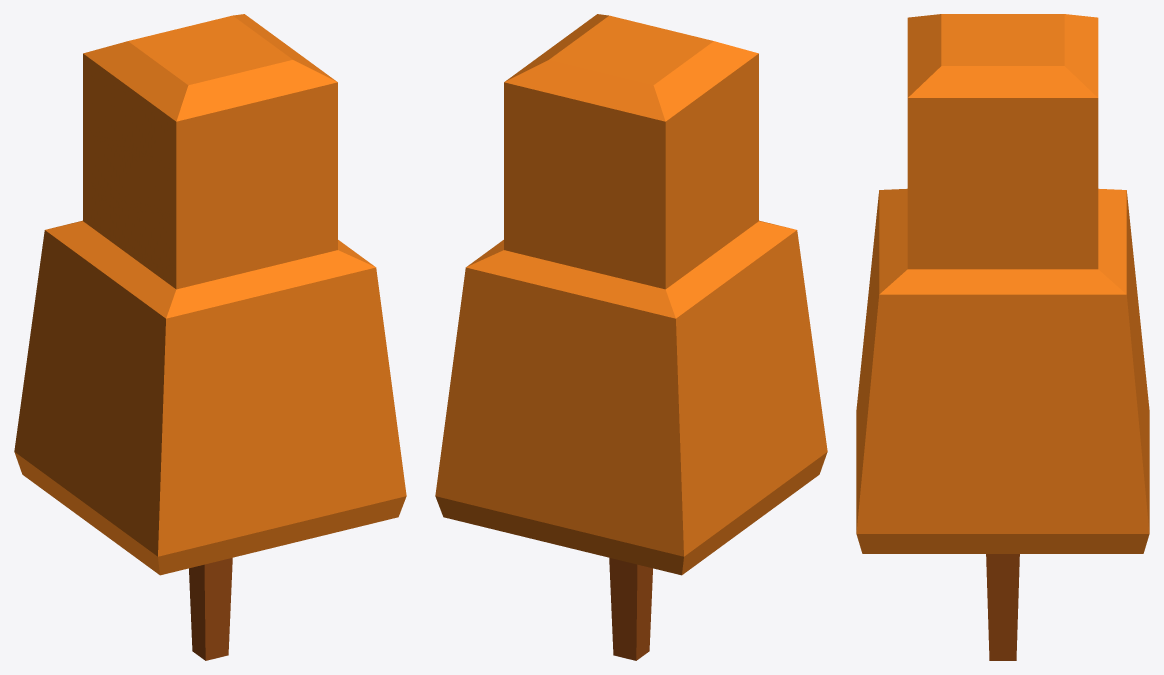
File: Tree_36_Fall.fbx
3 renders of one model, left to right at view 1: azimuth 30°, elevation 25°; view 2: azimuth 150°, elevation 25°; view 3: azimuth 270°, elevation 25°, orthographic. The views are drawn at different scales.
Visible parts, largest first — view 1: Tree_36_Fall; view 2: Tree_36_Fall; view 3: Tree_36_Fall.
Part boxes in pixels (bbox=[...]): Tree_36_Fall: bbox=[14, 14, 406, 660]; Tree_36_Fall: bbox=[435, 14, 827, 660]; Tree_36_Fall: bbox=[856, 14, 1149, 660].
Bounding box in the file's own units: 154 × 356 × 154.
